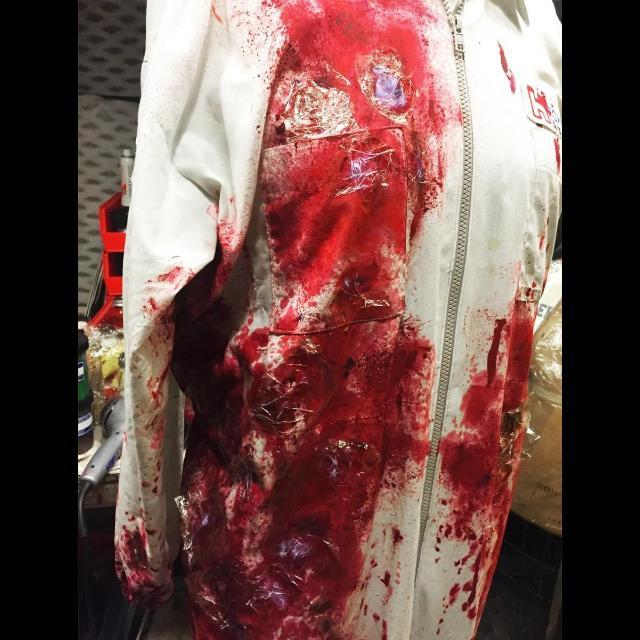blood: (116, 0, 463, 640), (428, 270, 538, 640), (499, 40, 517, 93), (555, 137, 562, 173)
